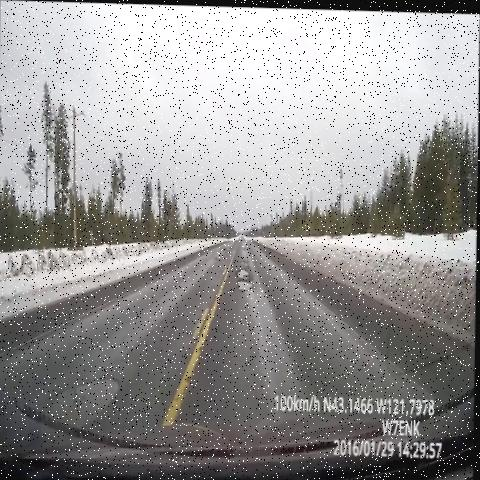pothole: (53, 365, 132, 435), (233, 247, 260, 295), (224, 239, 237, 253), (215, 250, 225, 262)
